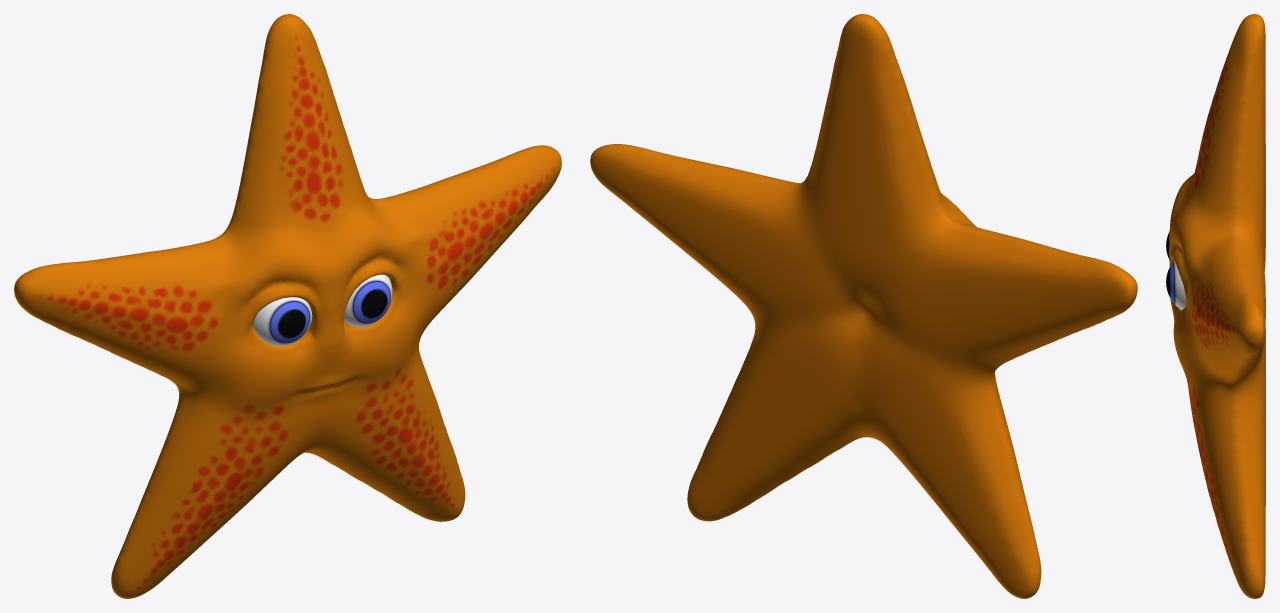
The model's file is Fishes_Little_Starfish_1_Base.glb.
3 views of the same model, side by side, from view 1: azimuth 30°, elevation 25°; view 2: azimuth 150°, elevation 25°; view 3: azimuth 270°, elevation 25° (orthographic). The views are drawn at different scales.
Parts seen in each view (by area): view 1: Plane.005, Little fish 02 Eyes_Base.002; view 2: Plane.005; view 3: Plane.005, Little fish 02 Eyes_Base.002.
Part boxes in pixels (x1,y1,x2,y2): Plane.005: (14,14,561,598); Little fish 02 Eyes_Base.002: (253,274,392,346); Plane.005: (590,14,1137,598); Plane.005: (1169,14,1265,598); Little fish 02 Eyes_Base.002: (1166,231,1186,309).
Size of the model in its own units: 0.4577 by 0.437 by 0.0777.
